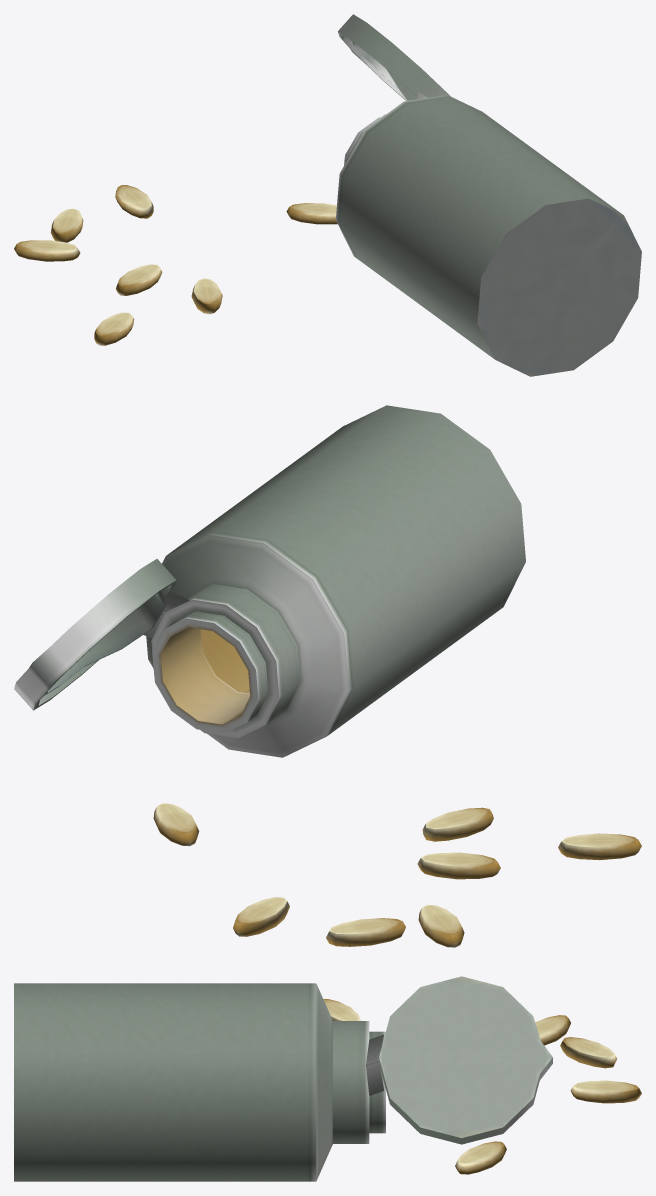
The model's file is ZhiBanShi_01_yaoping_01.FBX.
The picture shows the model from 3 angles, top to bottom: view 1: azimuth 30°, elevation 25°; view 2: azimuth 150°, elevation 25°; view 3: azimuth 270°, elevation 25°; orthographic projection. The views are drawn at different scales.
Visible parts, largest first — view 1: ZhiBanShi_yaoping_01; view 2: ZhiBanShi_yaoping_01; view 3: ZhiBanShi_yaoping_01.
Boxes of the visible parts, left/top/right/bottom form: ZhiBanShi_yaoping_01: left=14, top=14, right=641, bottom=376; ZhiBanShi_yaoping_01: left=14, top=405, right=641, bottom=947; ZhiBanShi_yaoping_01: left=14, top=976, right=641, bottom=1181.
Size of the model in its own units: 81.03 by 35.47 by 97.62.
